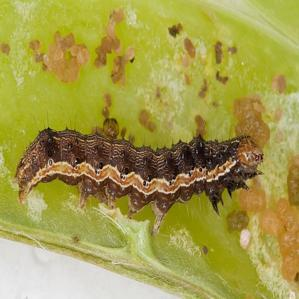Cotton bollworm: (14, 96, 273, 247)
